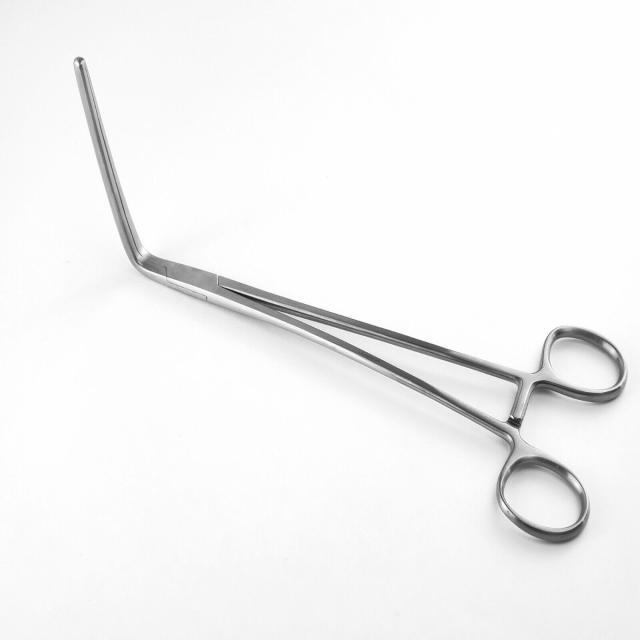Right Angle Colon Clamp: (64, 32, 632, 554)
